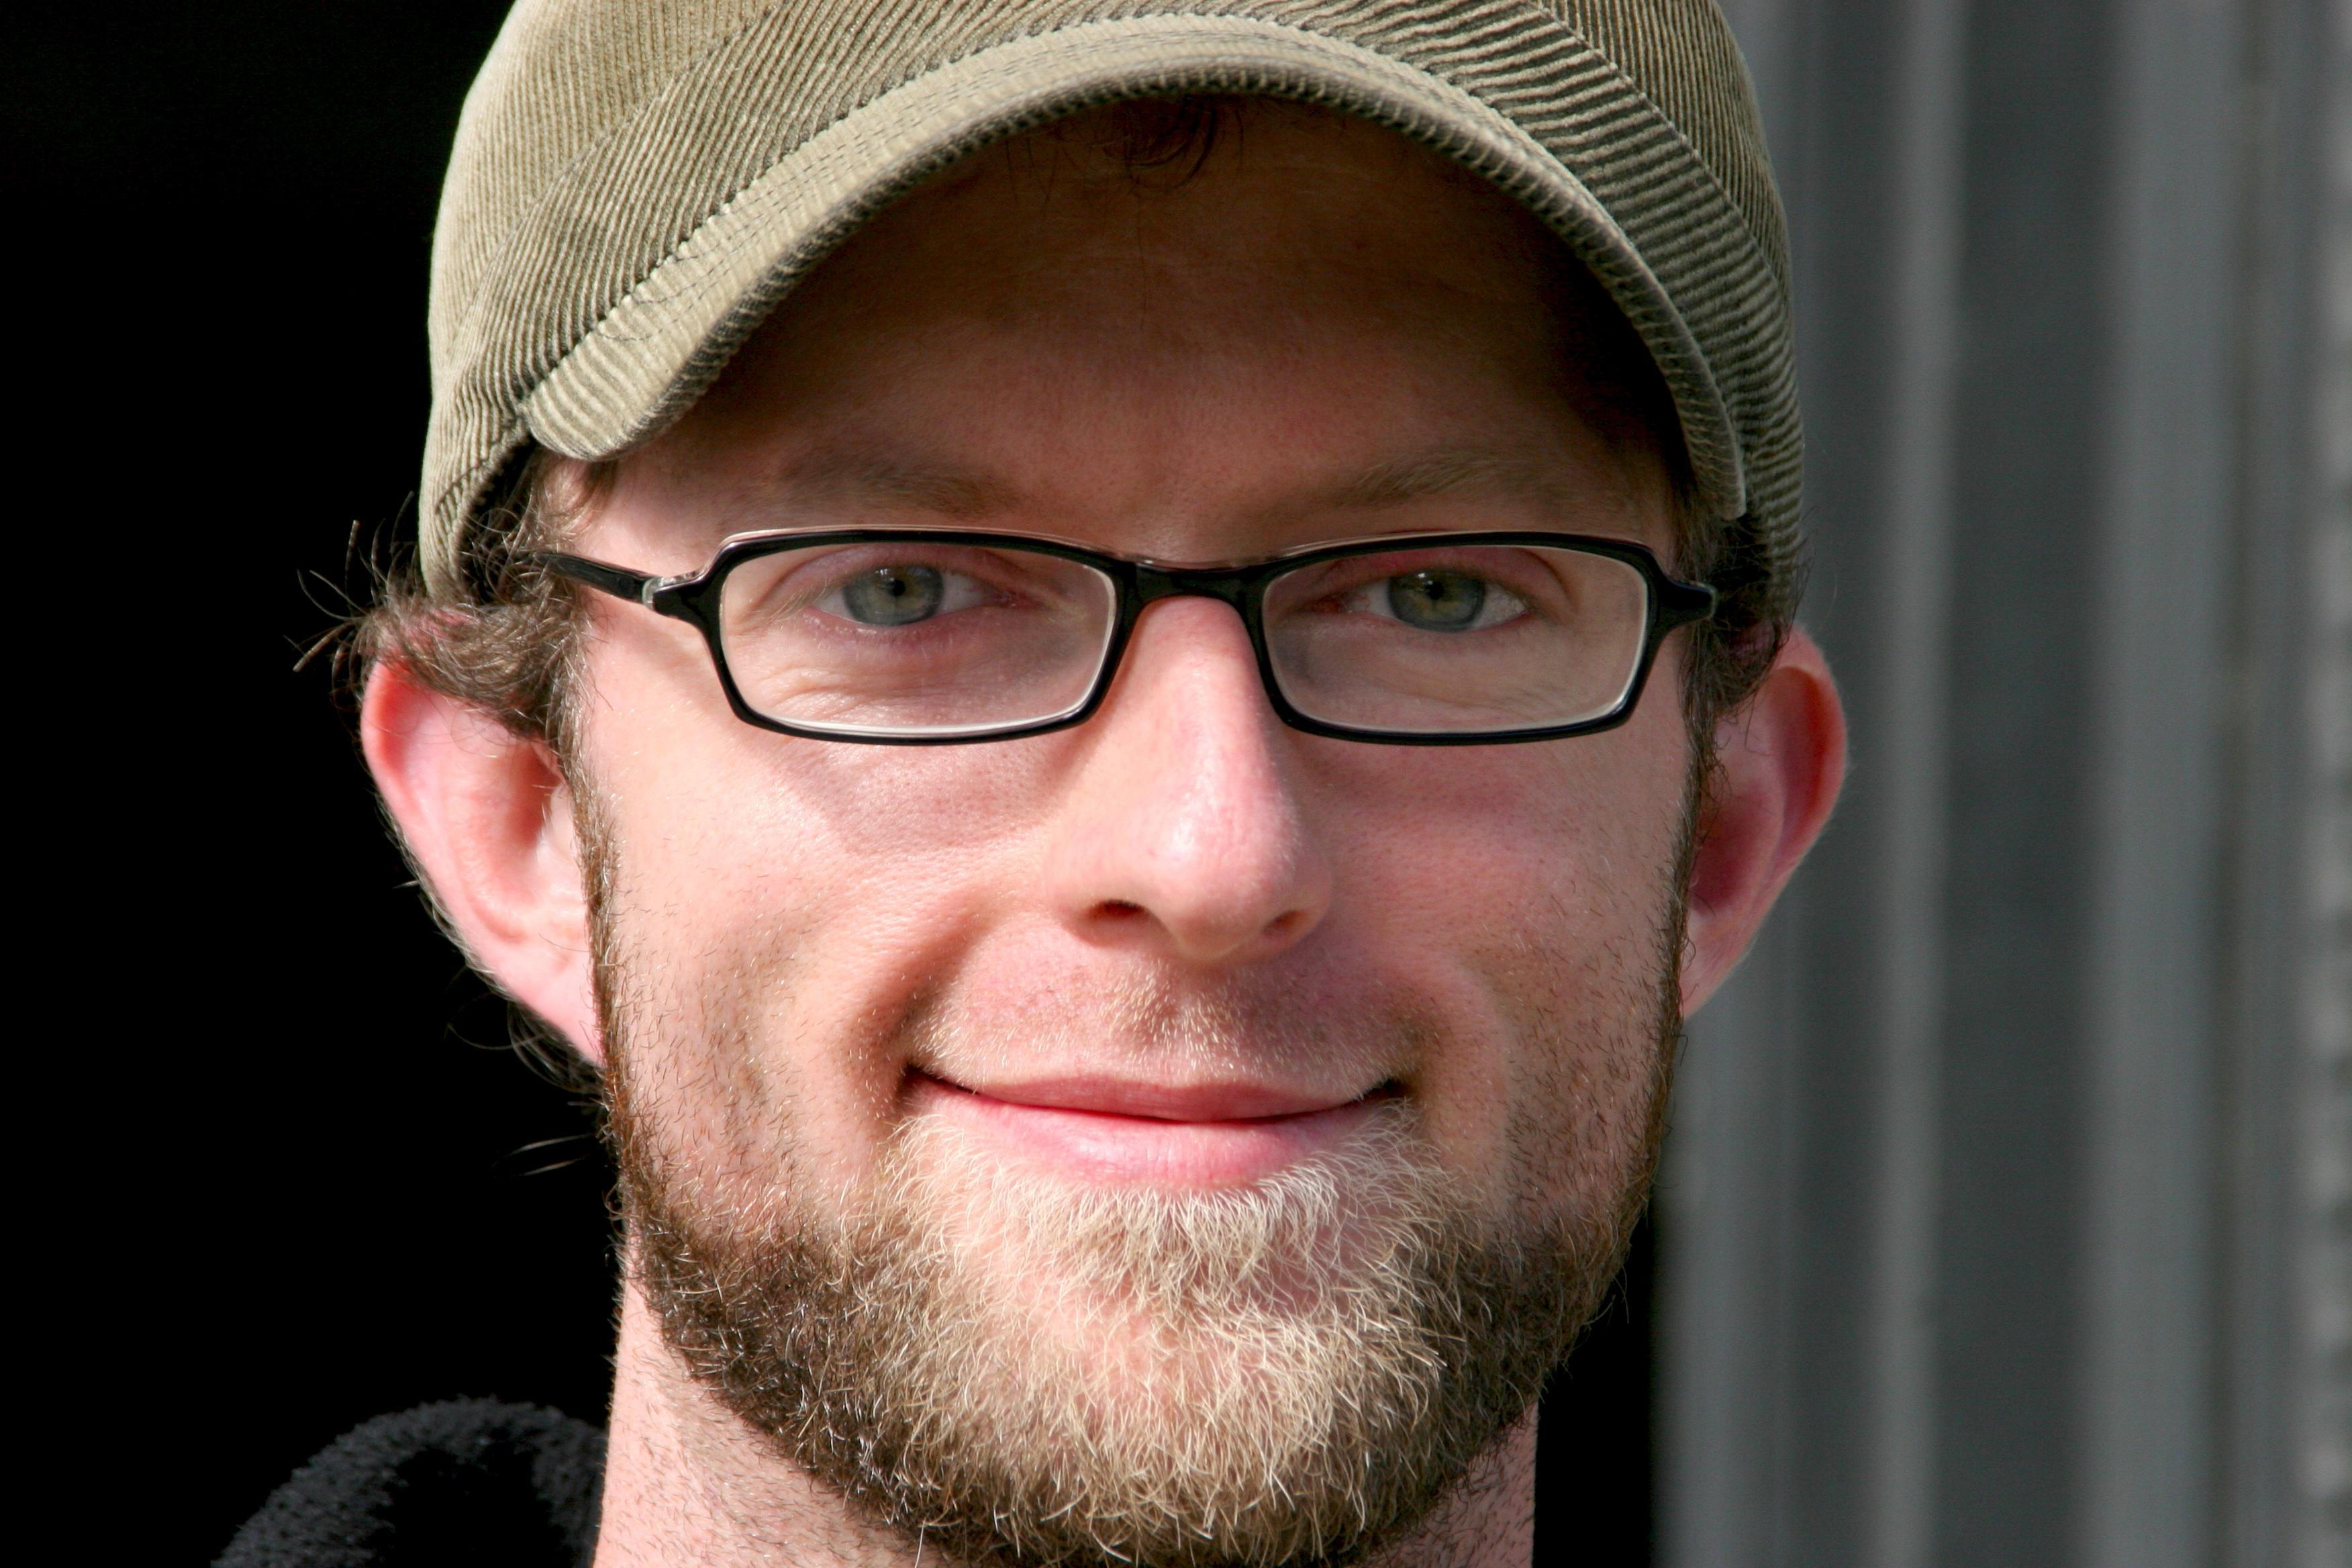Sober: (660, 394, 1659, 1423)
